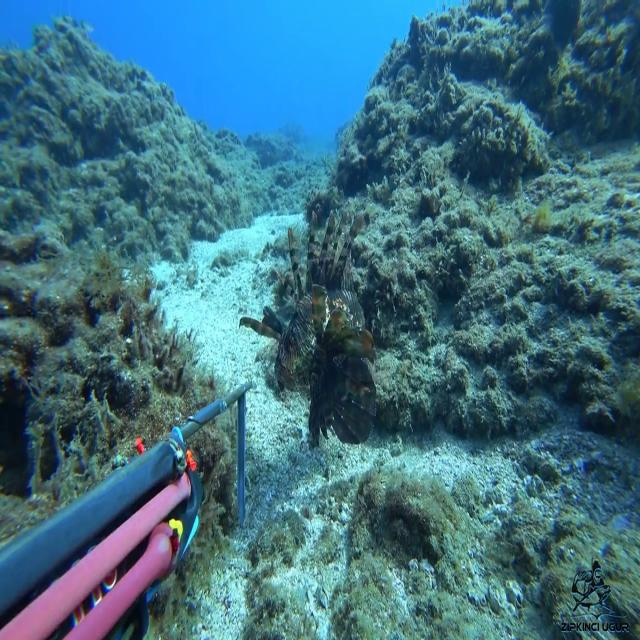Aslan Baligi: (237, 208, 412, 460)
